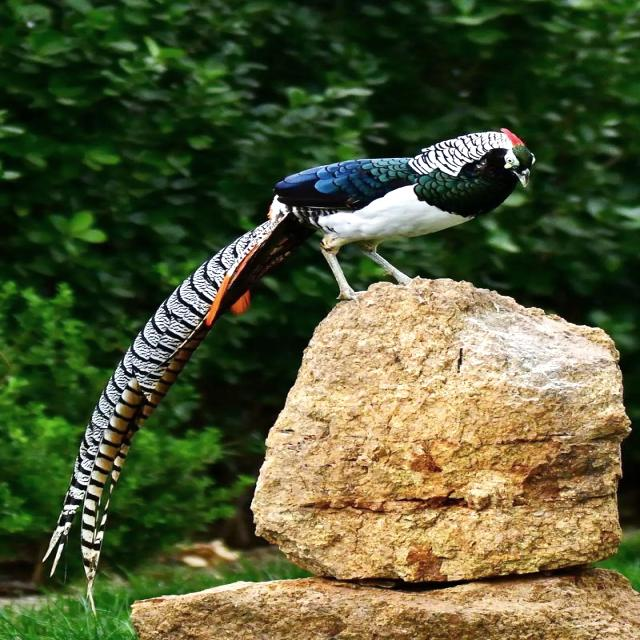Chrysolophus amherstiae: (43, 214, 314, 599)
